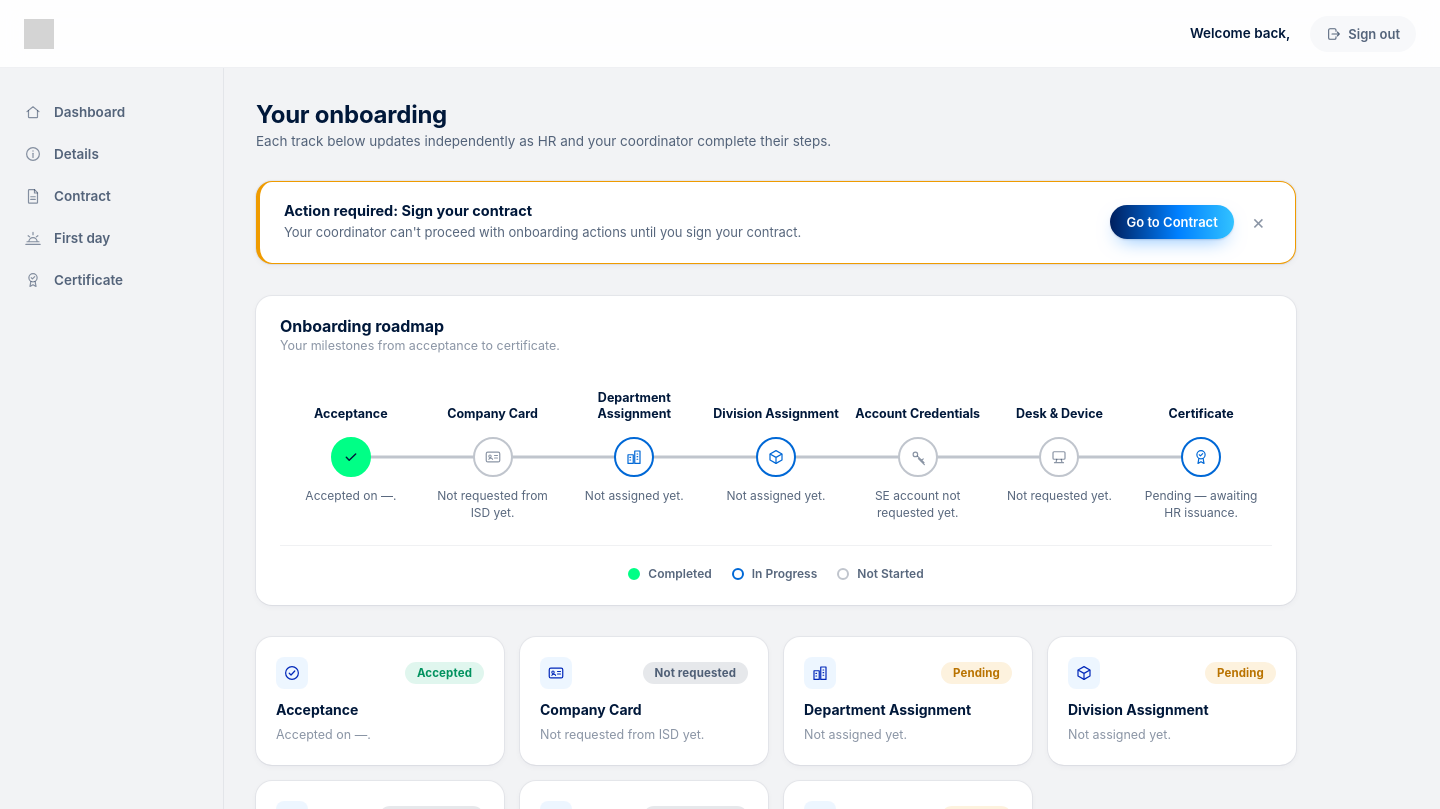
Scenario: TraineeDashboardPage contract-signature notice › dismissing the notice hides it for the session, without contractSigned changing
Expected: the heading "Action required: Sign your contract" is shown, [284, 202, 532, 219]
Click the button named "Dismiss".
click(1258, 222)  # box [1246, 208, 1271, 236]
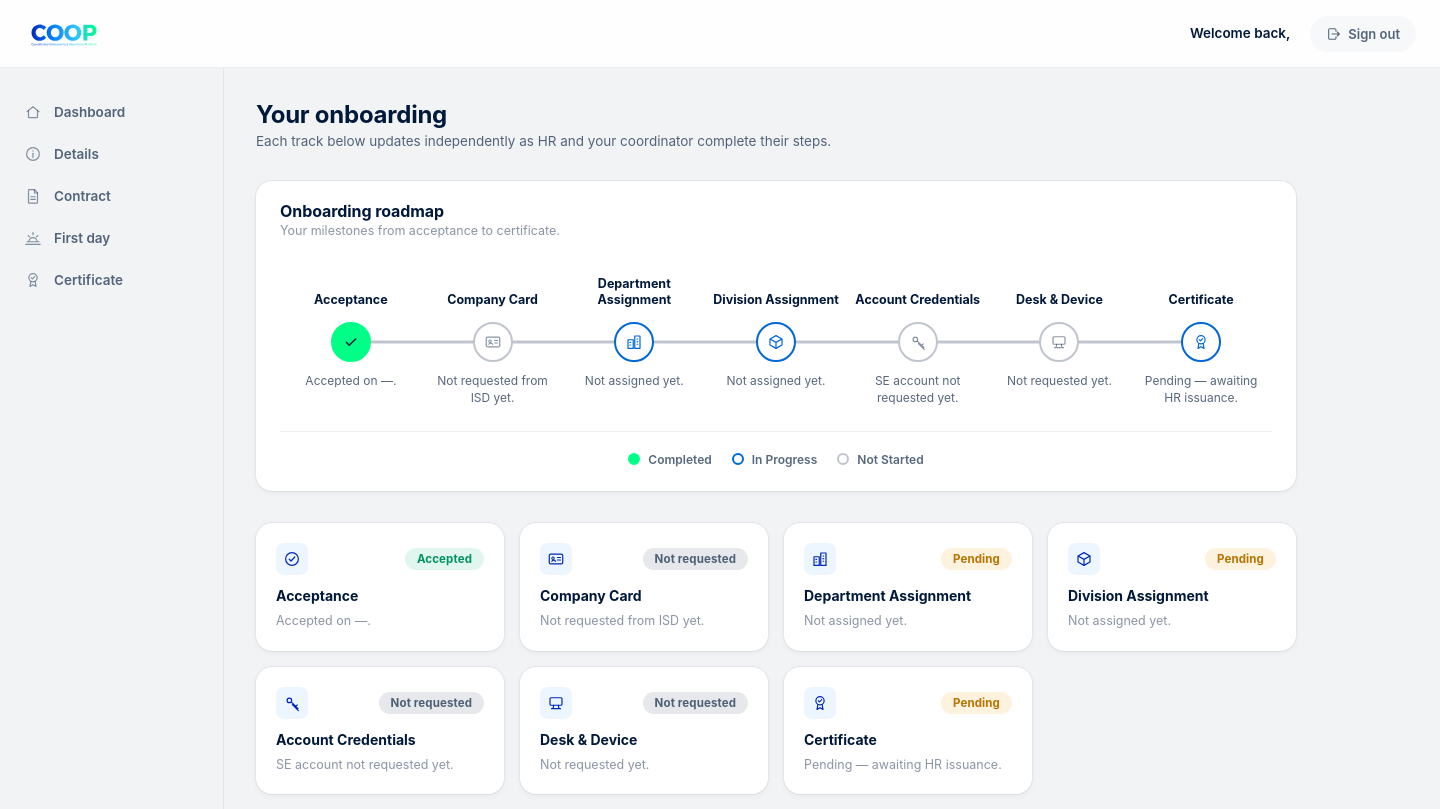
Expected: the heading "Action required: Sign your contract" is gone
